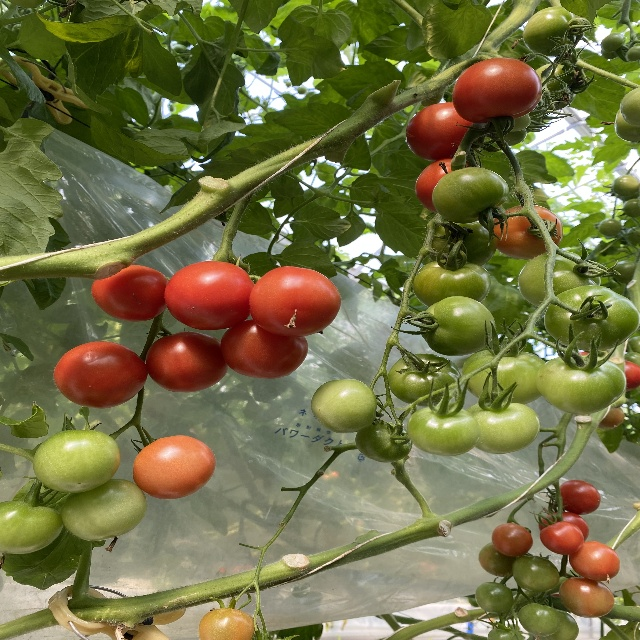l_fully_ripened: (248, 266, 342, 337), (54, 341, 148, 409), (164, 261, 256, 330), (452, 57, 542, 124), (220, 319, 309, 379), (145, 331, 230, 393), (92, 265, 168, 322), (405, 102, 473, 162), (414, 159, 470, 214), (539, 521, 585, 556), (538, 512, 589, 542), (559, 479, 601, 515)
l_green: (544, 285, 640, 351), (33, 429, 121, 494), (60, 479, 149, 542), (535, 354, 626, 414), (518, 250, 601, 311), (462, 349, 545, 405), (420, 296, 495, 356), (433, 167, 510, 224), (406, 403, 483, 456), (387, 353, 461, 406), (467, 402, 541, 454), (413, 258, 491, 307), (311, 378, 378, 434), (421, 219, 498, 267), (0, 501, 64, 555), (523, 6, 575, 57), (355, 421, 413, 462), (535, 63, 578, 110), (511, 555, 559, 593), (533, 608, 579, 640), (479, 542, 520, 577), (518, 604, 559, 637), (476, 581, 514, 613), (615, 109, 640, 142), (620, 87, 640, 126), (611, 260, 636, 283), (613, 175, 639, 196), (600, 33, 626, 53), (598, 219, 621, 236), (623, 199, 640, 218), (487, 628, 513, 640), (625, 45, 640, 62), (601, 49, 620, 59)
l_half_ripened: (133, 435, 216, 500), (491, 204, 564, 260), (559, 576, 615, 619), (569, 541, 621, 581), (198, 608, 255, 640), (491, 523, 533, 556)
